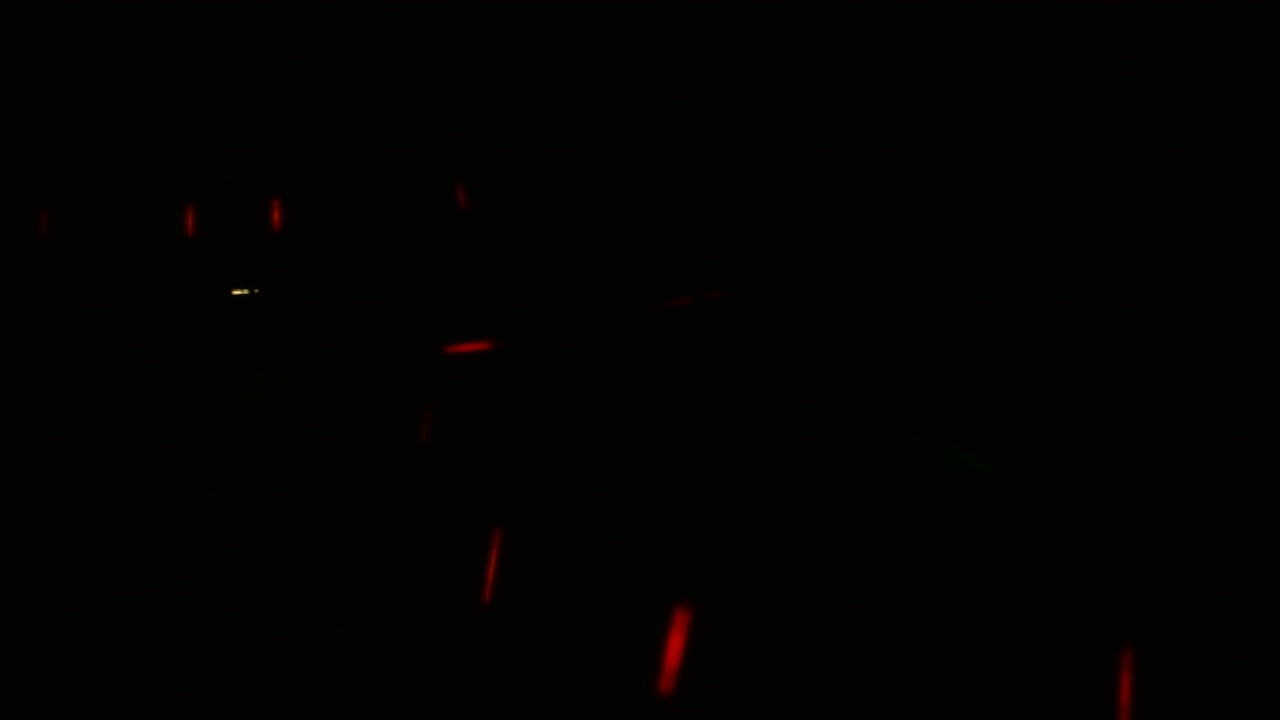pair1: (477, 525, 687, 690), (175, 197, 288, 244)
